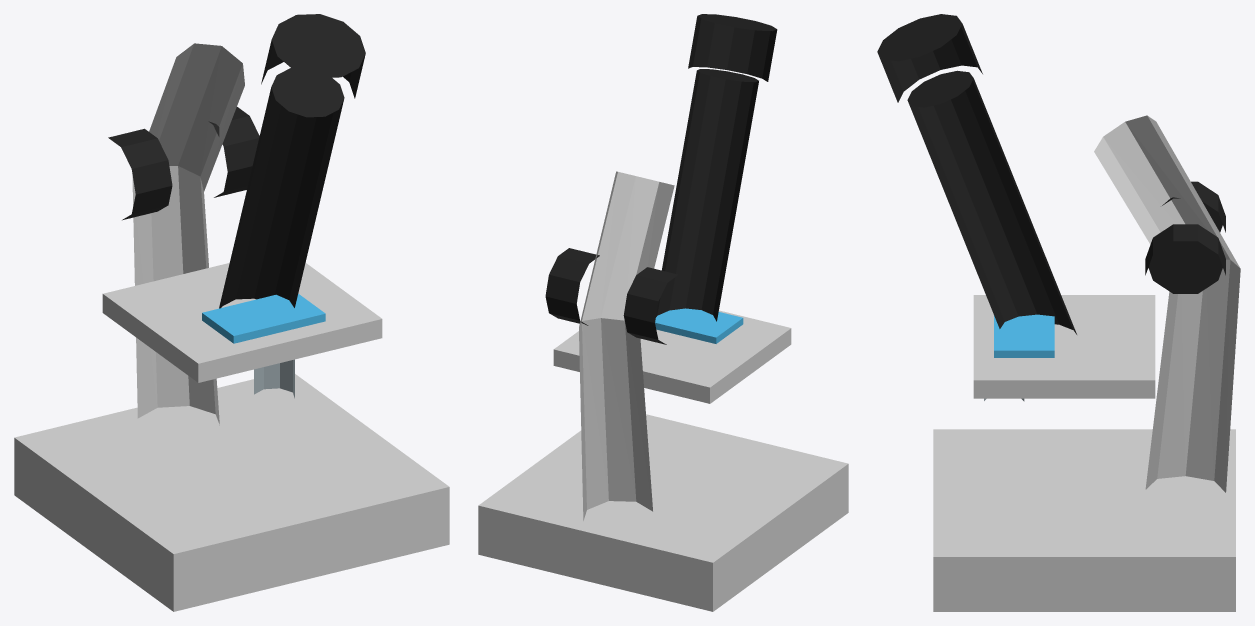
Rendered from mikroskop.glb.
The picture shows the model from 3 angles, left to right: view 1: azimuth 30°, elevation 25°; view 2: azimuth 150°, elevation 25°; view 3: azimuth 270°, elevation 25°; orthographic projection. The views are drawn at different scales.
Visible parts, largest first — view 1: mikroskop; view 2: mikroskop; view 3: mikroskop.
Boxes of the visible parts, <box> form: mikroskop: <box>14,14,449,611</box>; mikroskop: <box>478,14,848,611</box>; mikroskop: <box>877,14,1240,611</box>.
Size of the model in its own units: 0.3 by 0.5736 by 0.3603.
